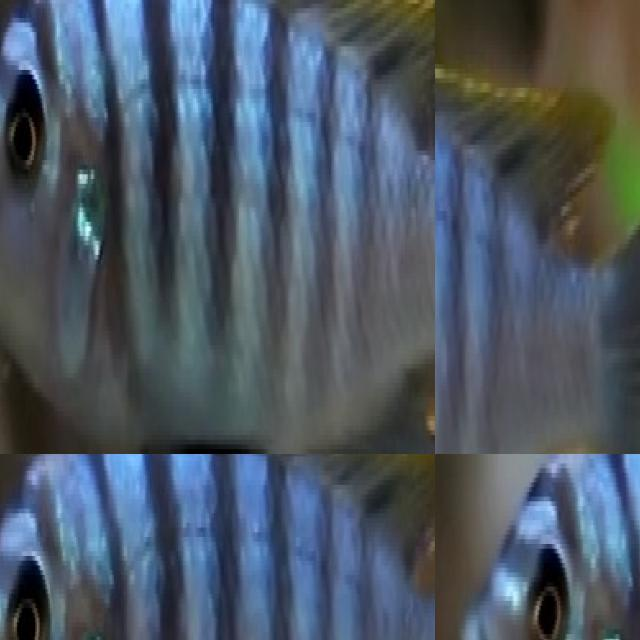fish: (0, 0, 435, 454), (435, 21, 640, 454), (0, 454, 435, 640), (435, 454, 640, 640)
